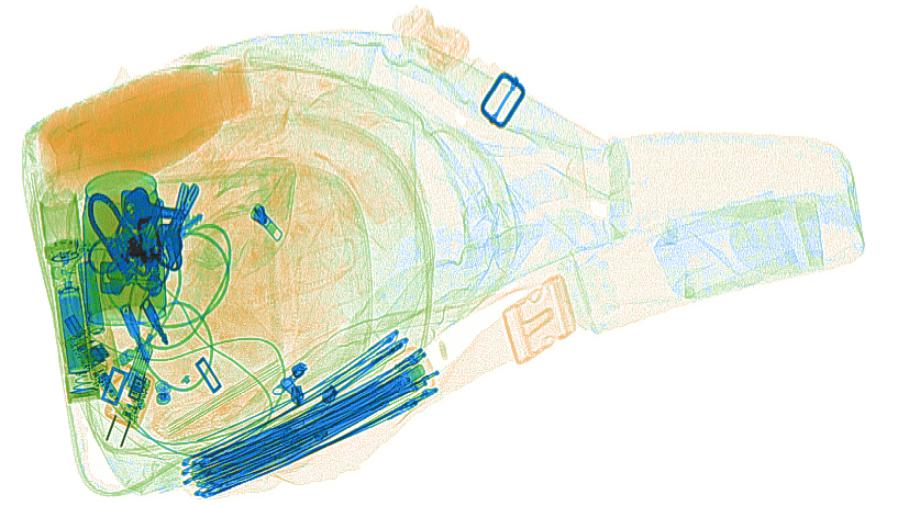battery: (54, 279, 91, 373), (75, 261, 106, 337)
